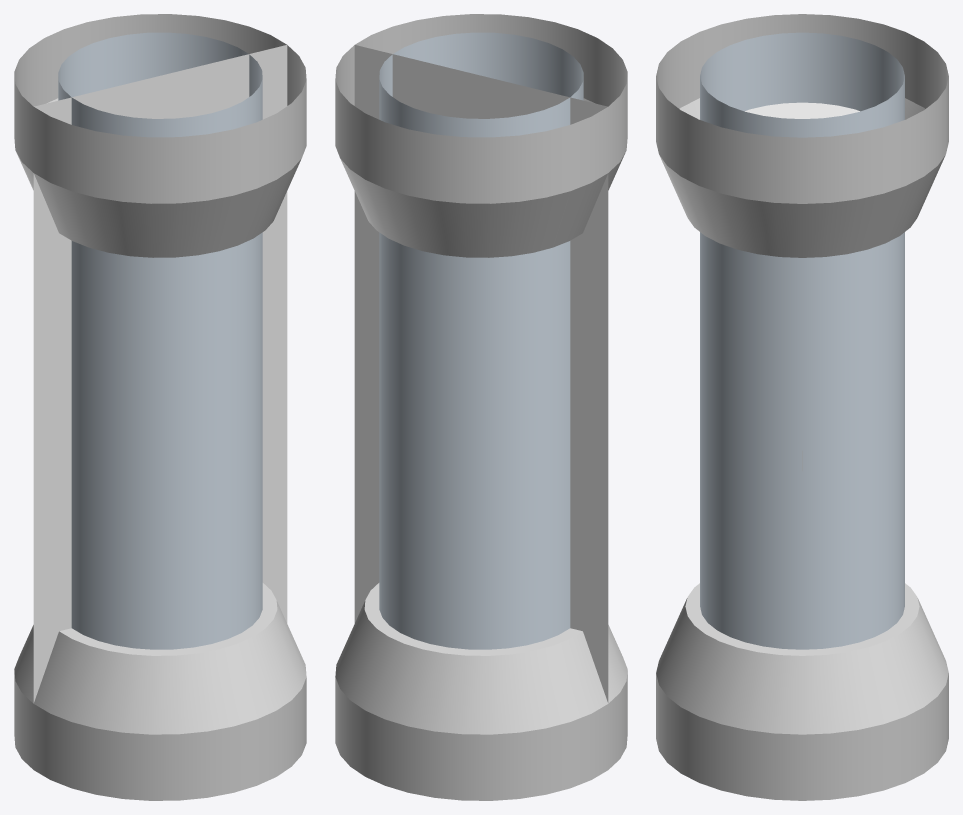
File: EnergyCell.fbx
3 views of the same model, side by side, from view 1: azimuth 30°, elevation 25°; view 2: azimuth 150°, elevation 25°; view 3: azimuth 270°, elevation 25° (orthographic).
Visible parts, largest first — view 1: EnergyCell, Shine; view 2: EnergyCell, Shine; view 3: EnergyCell.
Boxes of the visible parts, x1=… form: EnergyCell: x1=14, y1=14, x2=306, y2=800; Shine: x1=33, y1=45, x2=287, y2=702; EnergyCell: x1=335, y1=14, x2=627, y2=800; Shine: x1=354, y1=45, x2=608, y2=702; EnergyCell: x1=656, y1=14, x2=948, y2=800.
Size of the model in its own units: 200 by 500 by 200.
